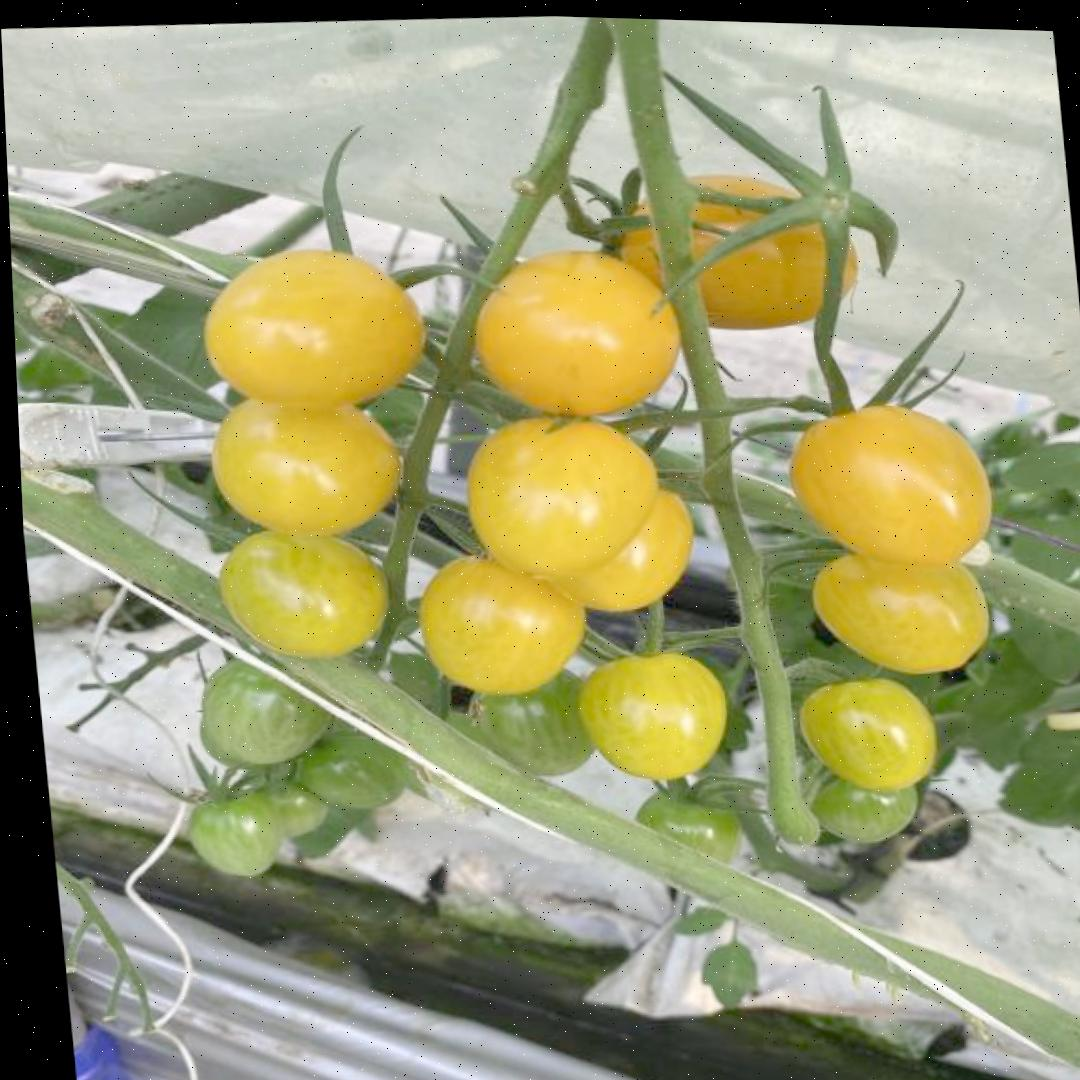mentah: (195, 654, 340, 771), (181, 784, 289, 880)
setengah_matang: (601, 158, 867, 339), (462, 238, 690, 421), (193, 238, 431, 413), (781, 394, 1000, 576), (455, 404, 666, 584), (408, 547, 594, 701), (804, 541, 996, 682), (211, 520, 398, 664), (571, 645, 733, 785), (791, 672, 942, 796)
